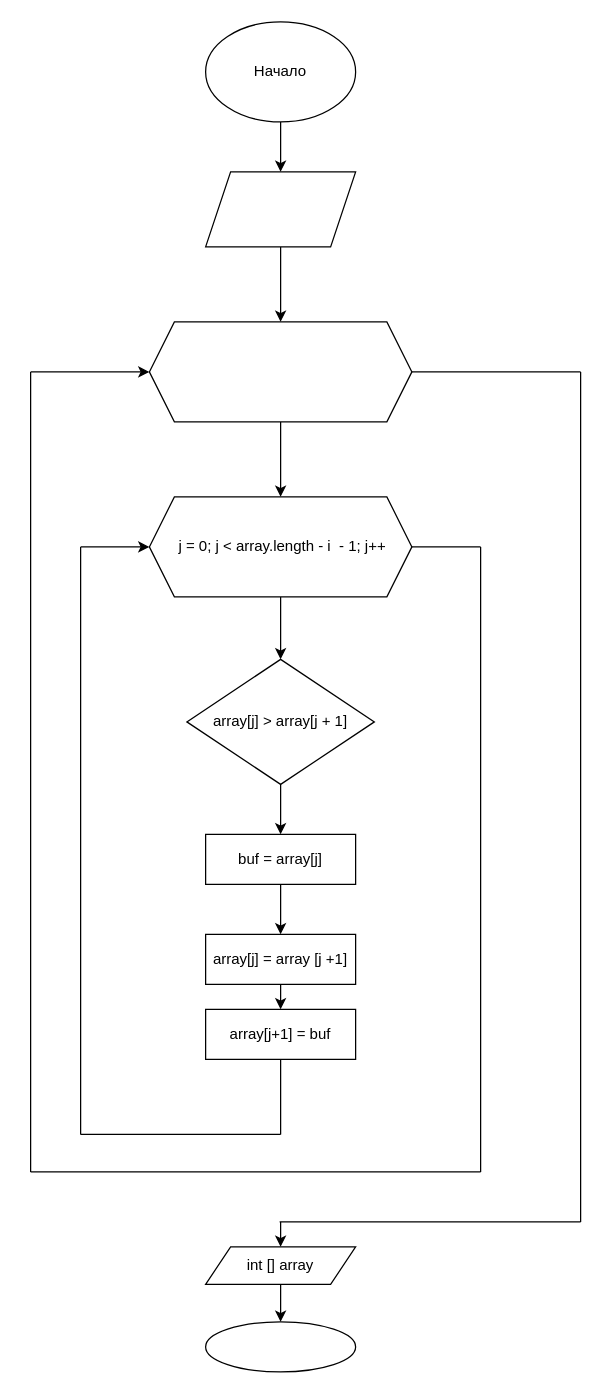
The diagram is 604 pixels wide and 1394 high, and some of its shapes have lost their labels. Each missing label, with the box of its shape:
i = 0; i<array.length;i++: (148, 321, 412, 422)
int [] массив: (204, 171, 356, 247)
Конец: (204, 1321, 356, 1372)
